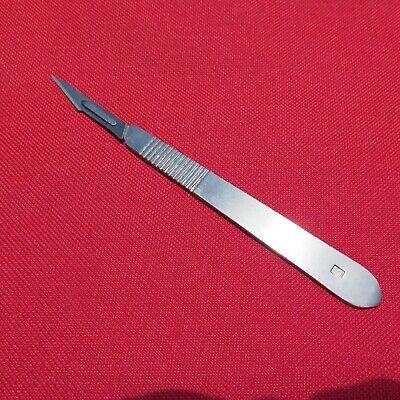Knife Blade: (39, 63, 134, 151)
Knife Handle: (81, 96, 384, 313)
